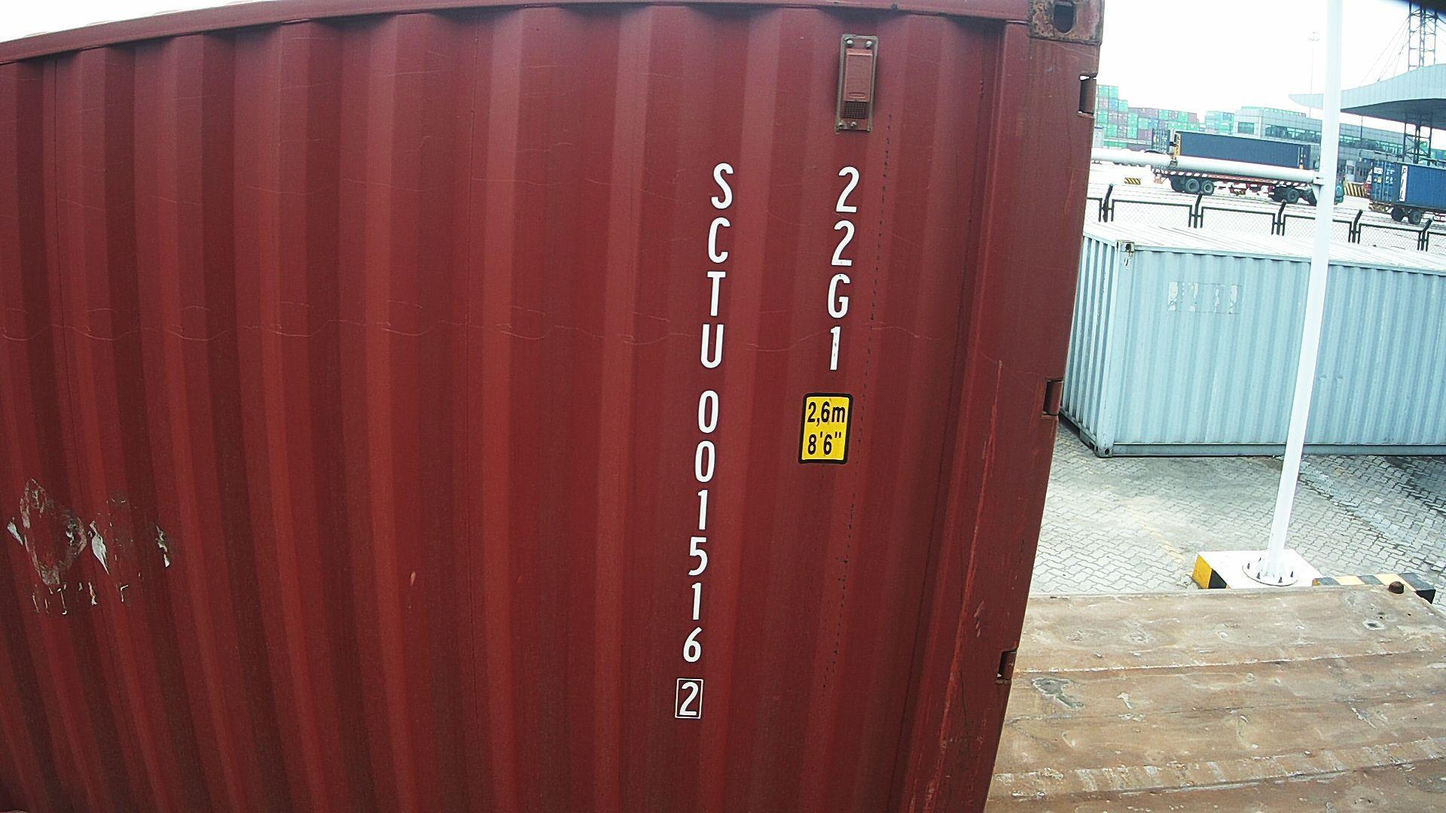container-numbers: (671, 156, 739, 729), (813, 163, 866, 376)
